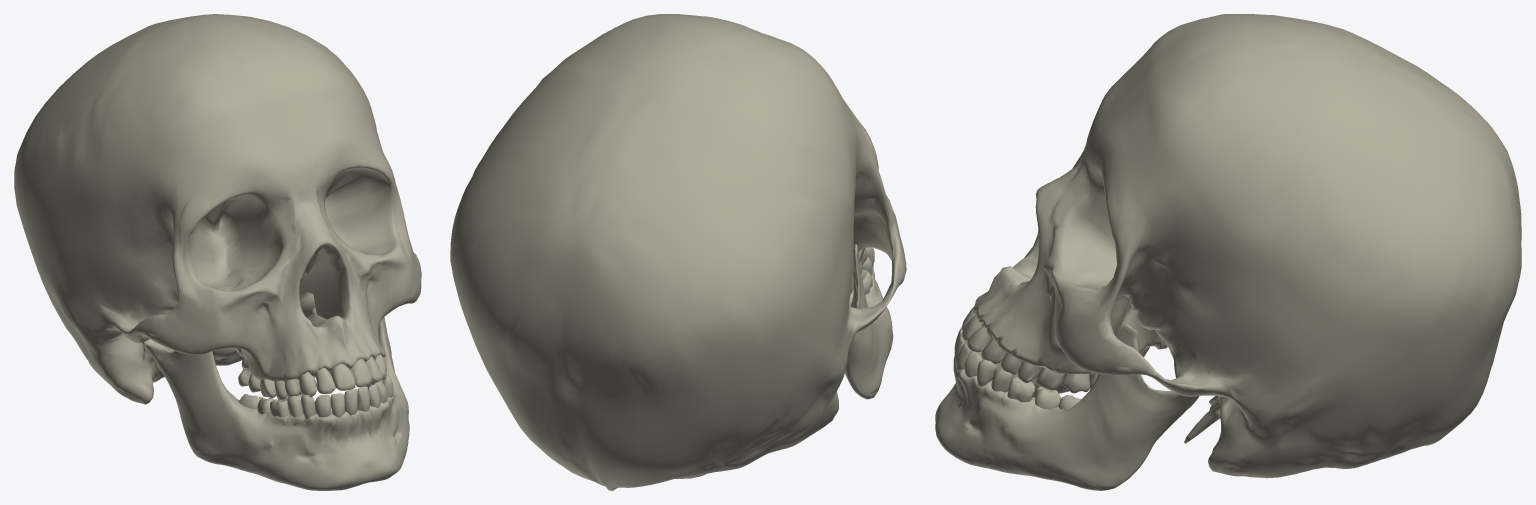
File: skull.fbx
The picture shows the model from 3 angles, left to right: view 1: azimuth 30°, elevation 25°; view 2: azimuth 150°, elevation 25°; view 3: azimuth 270°, elevation 25°; orthographic projection. The views are drawn at different scales.
Parts seen in each view (by area): view 1: Skull; view 2: Skull; view 3: Skull.
Boxes of the visible parts, x1,y1,x2,y2 form: Skull: (14,14,421,490); Skull: (450,14,906,490); Skull: (935,14,1521,490).
Size of the model in its own units: 6.19 by 6.92 by 8.96.
